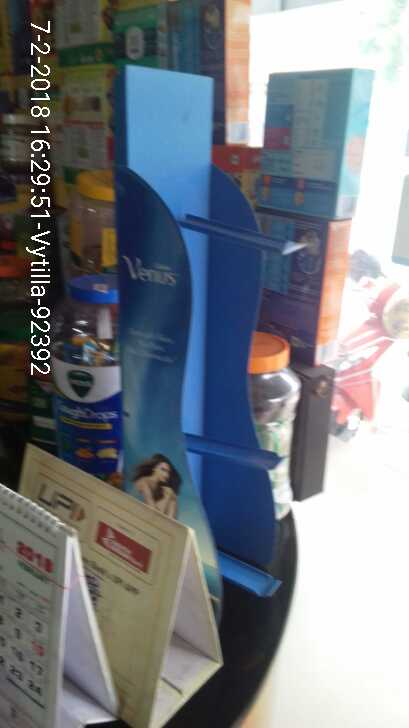reject: (148, 210, 336, 375)
